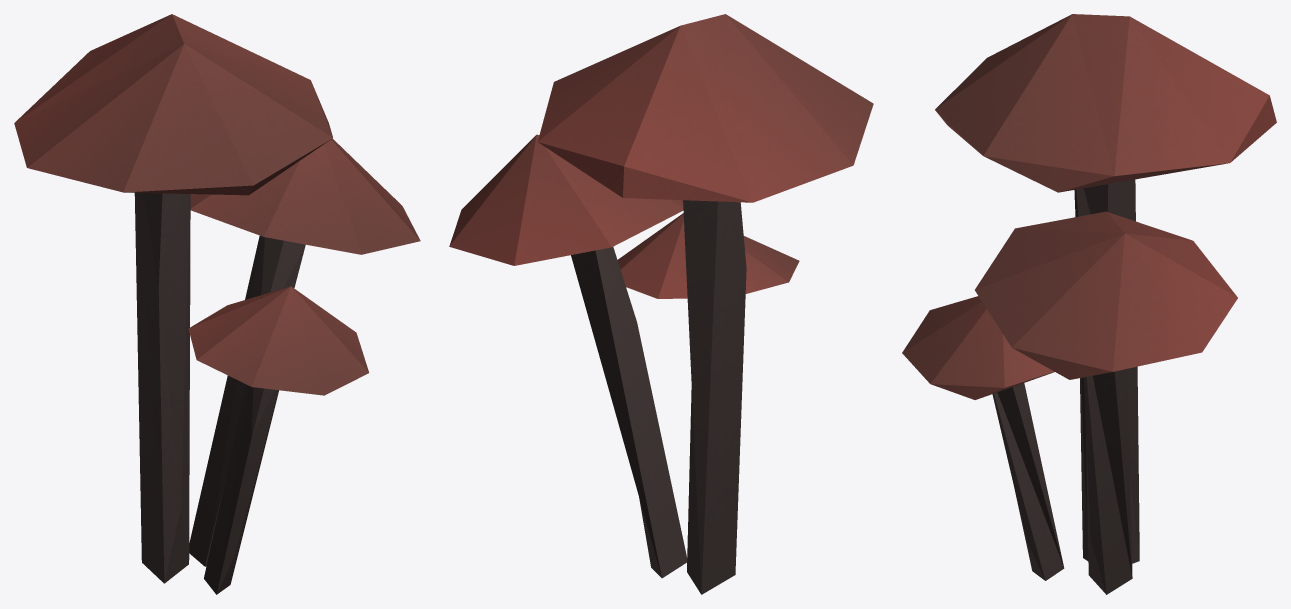
File: Mush_1A_LOD.fbx
The picture shows the model from 3 angles, left to right: view 1: azimuth 30°, elevation 25°; view 2: azimuth 150°, elevation 25°; view 3: azimuth 270°, elevation 25°; orthographic projection. The views are drawn at different scales.
Parts seen in each view (by area): view 1: polySurface1311; view 2: polySurface1311; view 3: polySurface1311.
Part boxes in pixels (x1,y1,x2,y2): polySurface1311: (14, 14, 420, 594); polySurface1311: (449, 14, 873, 594); polySurface1311: (902, 14, 1276, 594).
Bounding box in the file's own units: 2.03 × 2.8 × 1.7.
